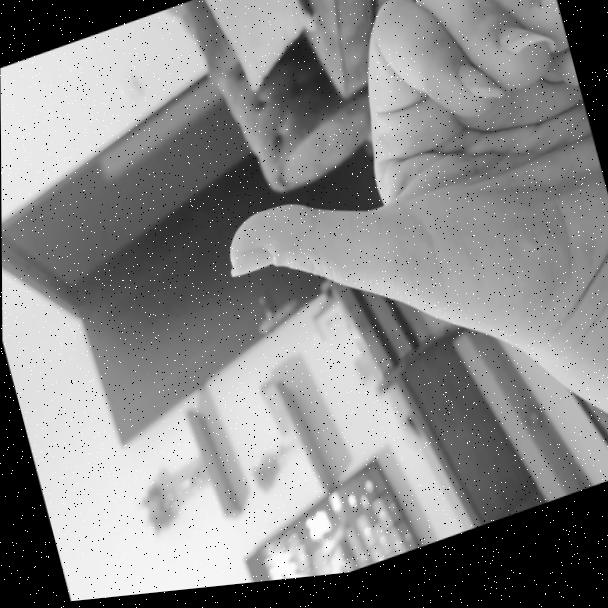five: (174, 0, 608, 365)
